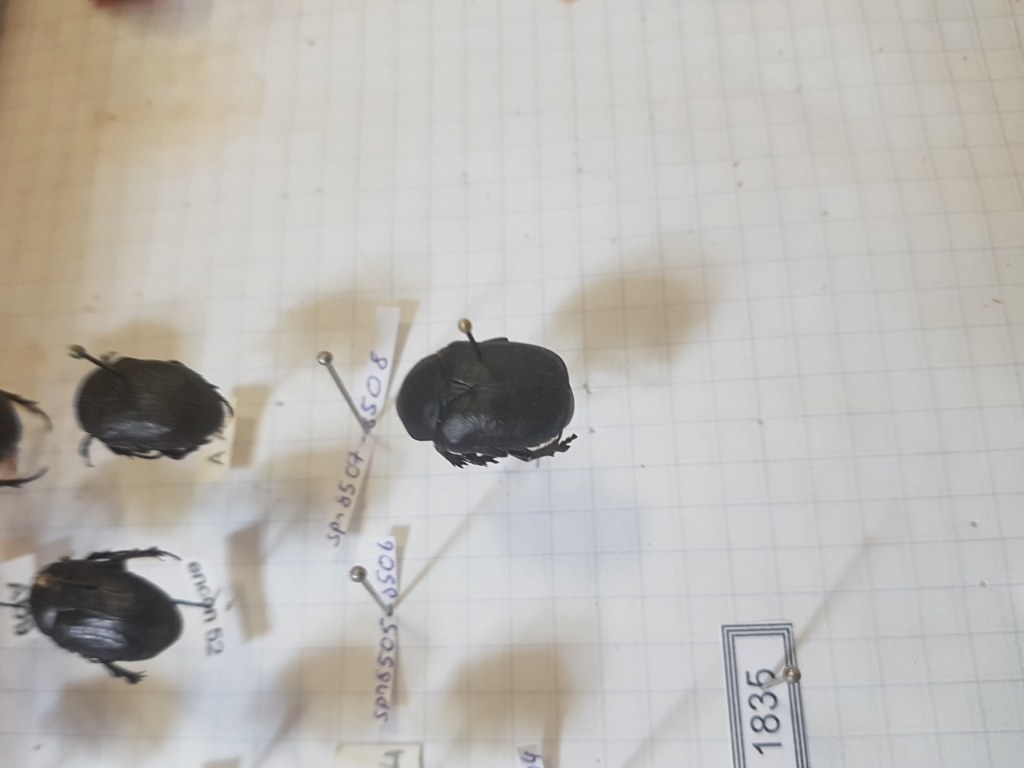Protaetia_vidua: (393, 328, 578, 471), (20, 532, 188, 689), (64, 340, 233, 463)
